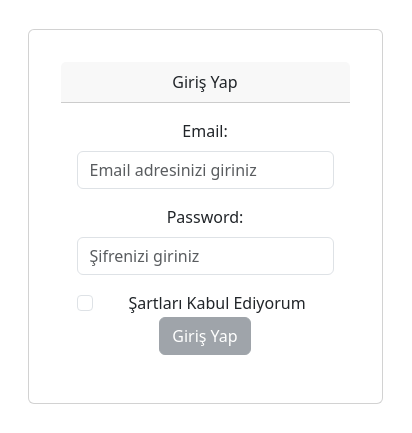
Test: Login Page › Error Messages › Email input throws error for tea@gmail.
In the field with test id "email-input": (206, 170) 77,151 -> 334,189, type "tea@gmail."
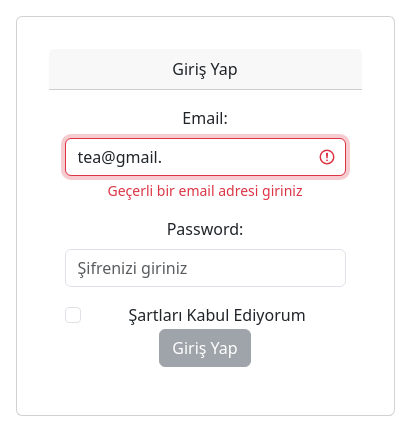
Check: the text "Geçerli bir email adresi giriniz" is shown, box 108,181 -> 302,200
